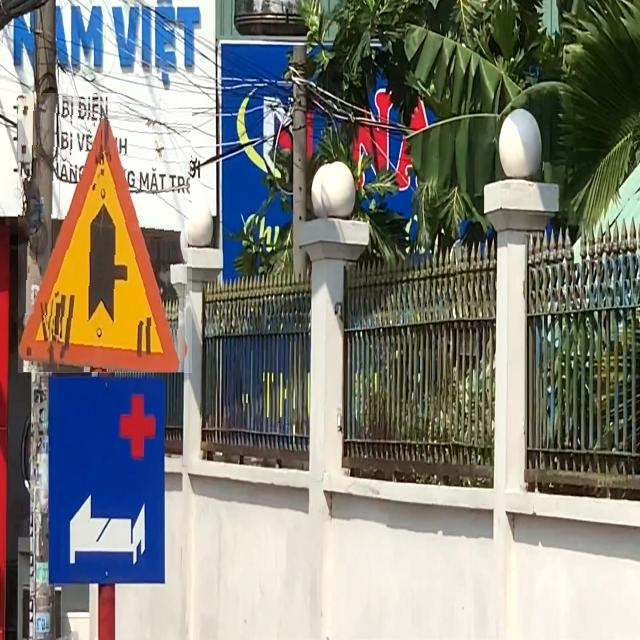bien_nguy_hiem: (18, 94, 192, 374)
